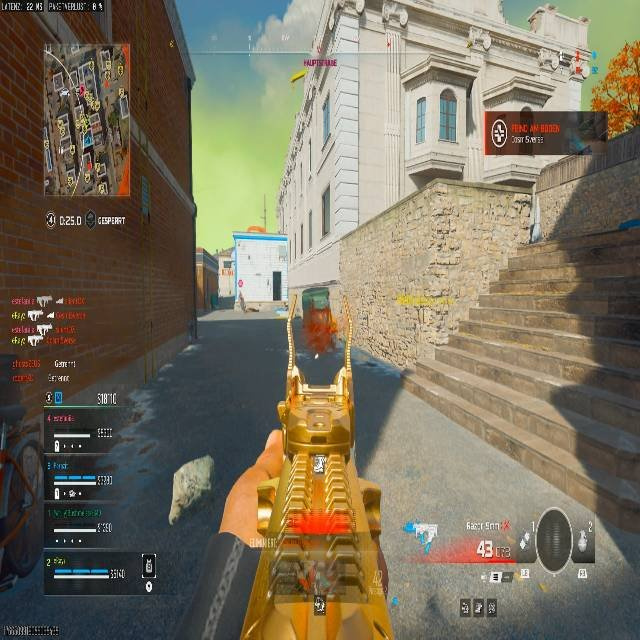player: (236, 279, 245, 312)
